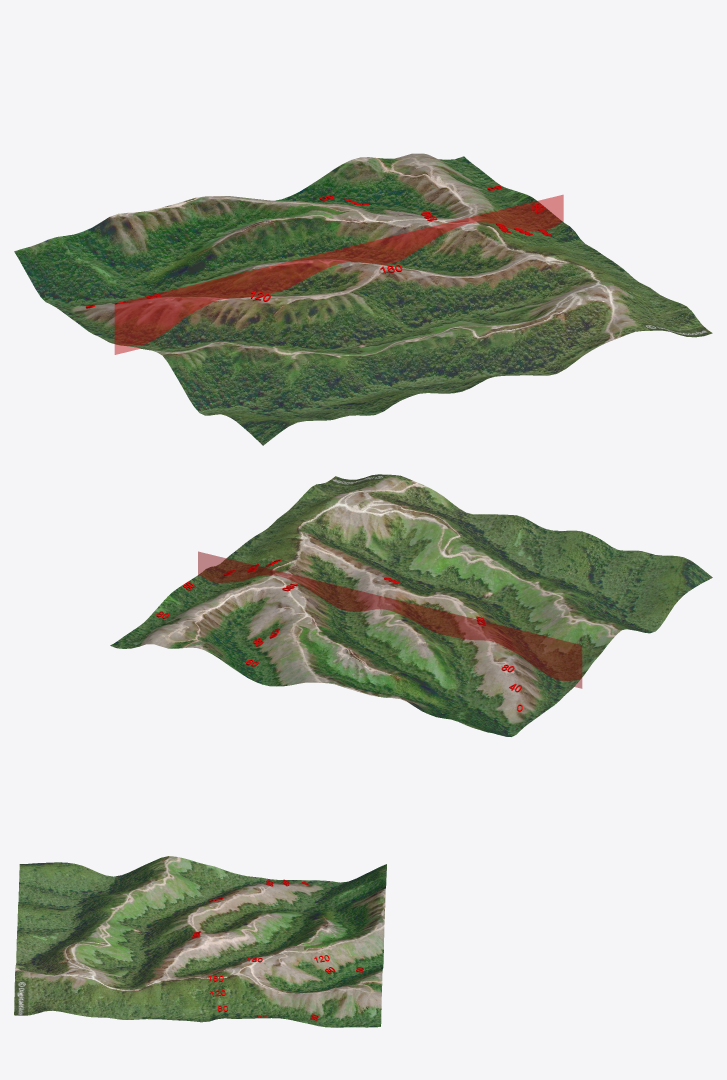
The model's file is adrianopolis2a.gltf.
3 views of the same model, one above another, from view 1: azimuth 30°, elevation 25°; view 2: azimuth 150°, elevation 25°; view 3: azimuth 270°, elevation 25° (orthographic). The views are drawn at different scales.
Parts seen in each view (by area): view 1: root; view 2: root; view 3: root.
Part boxes in pixels (<box>): root: <box>14,153,712,445</box>; root: <box>110,474,712,736</box>; root: <box>14,856,386,1027</box>.
Bounding box in the file's own units: 2706 × 235 × 3788.
Materials: 4 (1 with a texture image).
